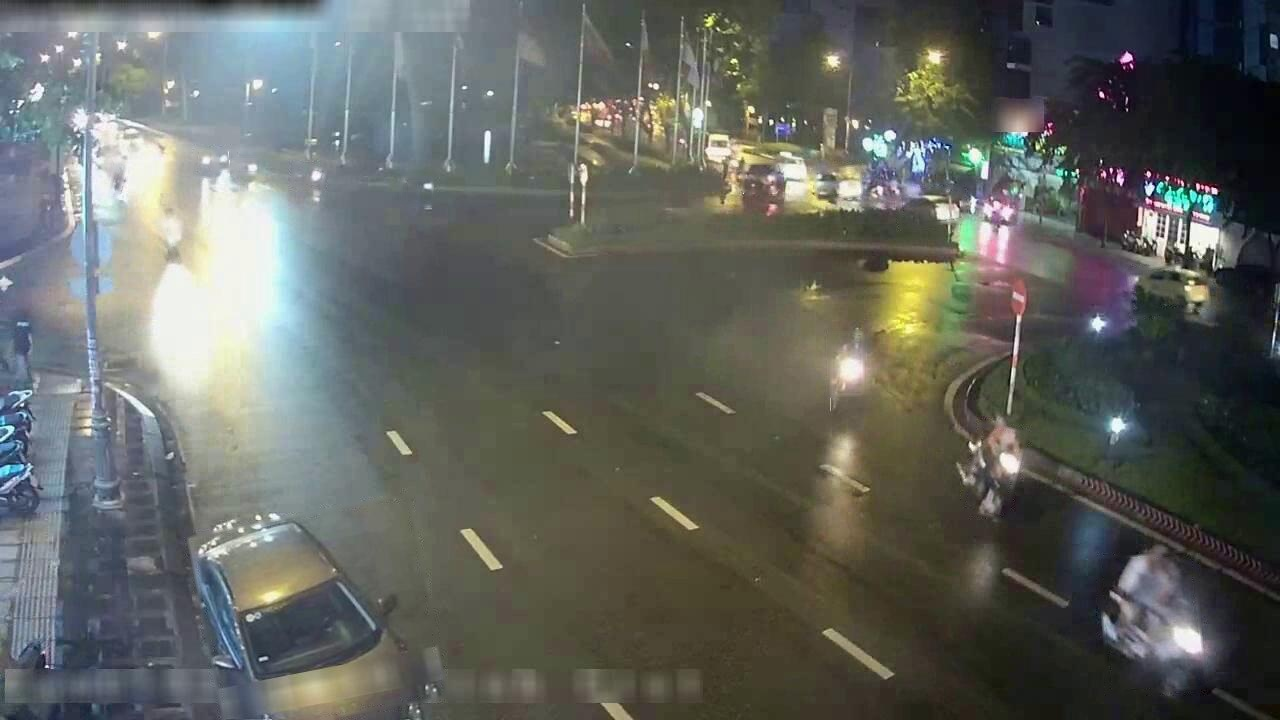Car: (192, 513, 433, 719), (1099, 545, 1219, 697), (1135, 266, 1209, 309), (901, 194, 961, 227), (739, 162, 785, 201), (776, 152, 808, 182), (704, 133, 732, 164), (813, 172, 839, 201)
Motorcycle: (0, 463, 40, 514)
Motorcyclist: (965, 418, 1022, 517), (828, 329, 869, 413), (161, 207, 183, 262), (399, 177, 434, 202), (293, 166, 325, 192), (111, 165, 127, 201), (195, 151, 217, 177), (233, 158, 257, 180), (214, 151, 230, 178)
Sign: (1010, 279, 1027, 316)
Traffic light: (1113, 50, 1136, 110)
